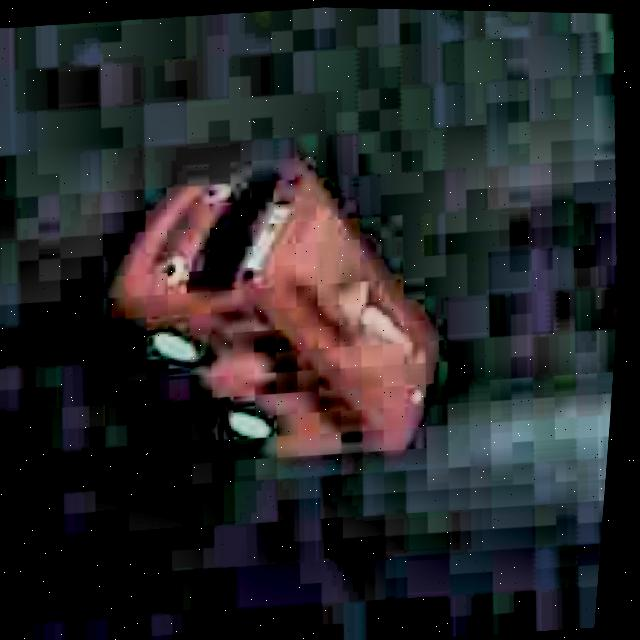bus: (72, 126, 477, 497)
